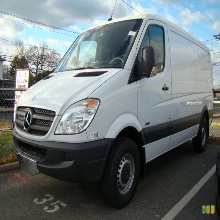no damage: (12, 13, 215, 208)
